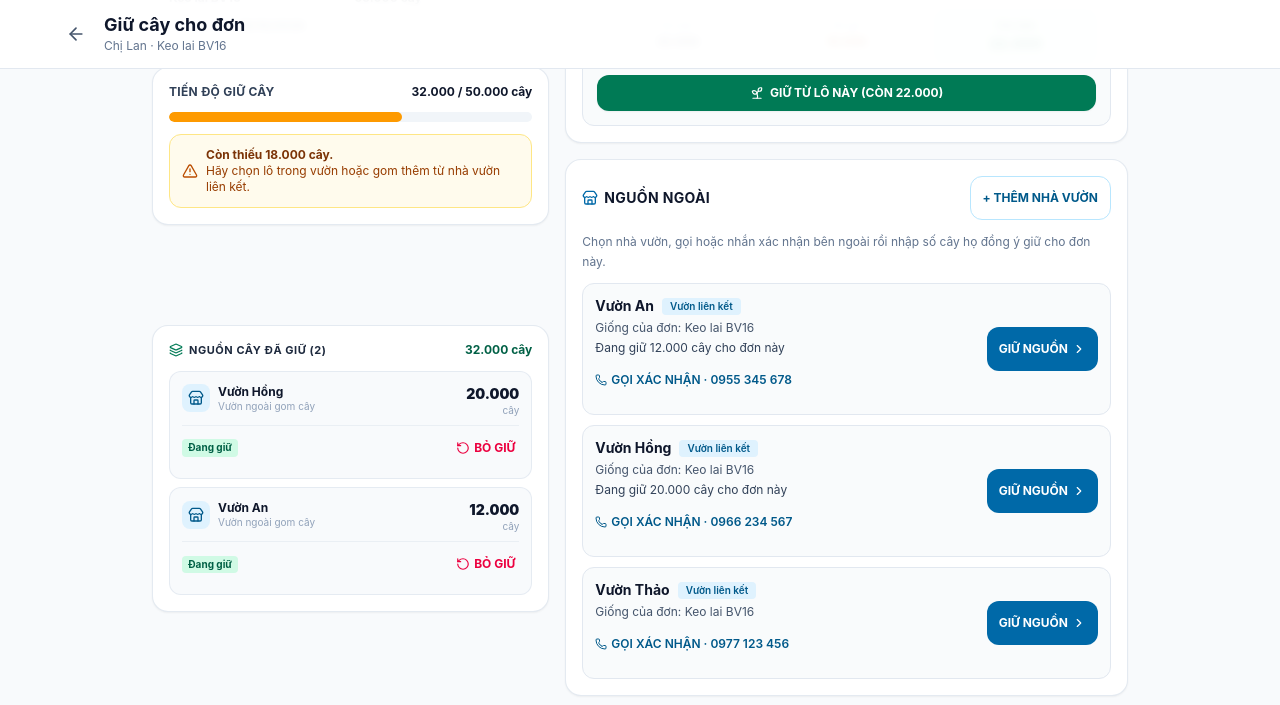
OrderReserveScreen (Phase P3) › allows reserving from external supplier
(page scrolled)
Expected: the text "Vườn Thảo" is shown, [595,580,670,600]
// Click "Giữ nguồn từ Vườn Thảo"
Click the button with aria-label "Giữ nguồn từ Vườn Thảo".
click(1042, 623)  # box [987,601,1098,645]
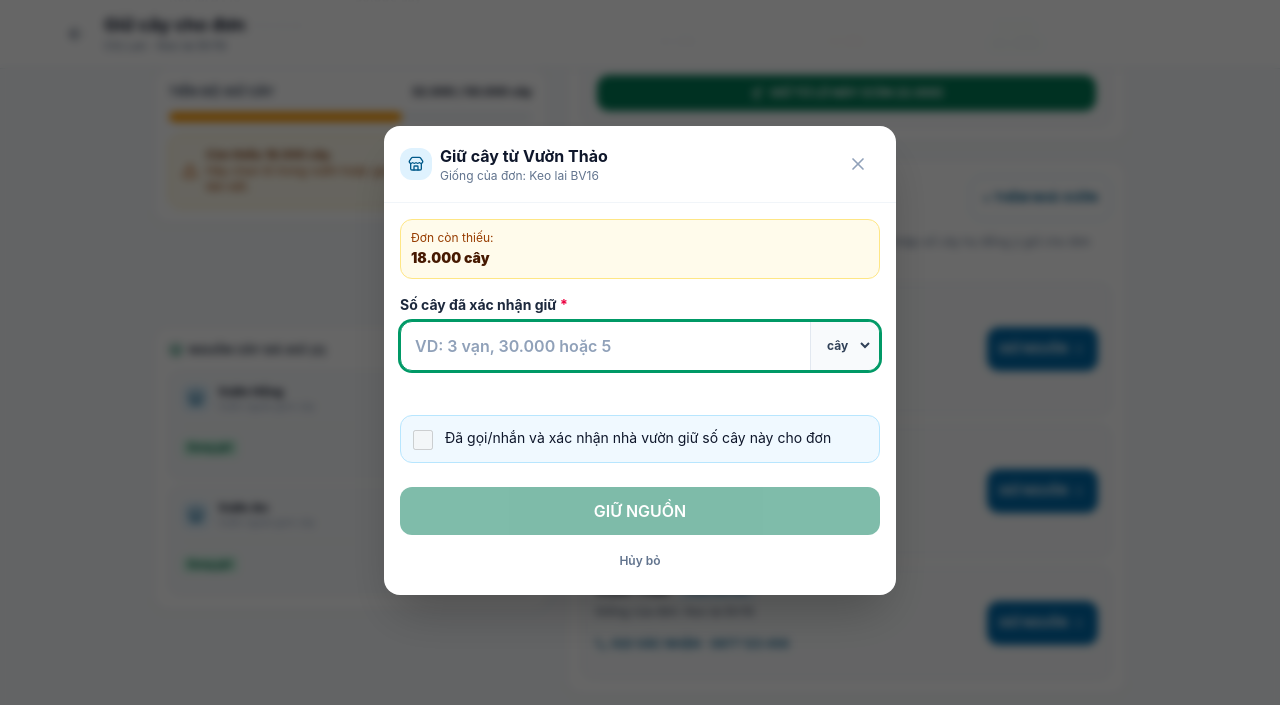
Result: the heading "Giữ cây từ Vườn Thảo" is shown at [440,144,608,168]
Result: the field labelled "Số cây đã xác nhận giữ *" is empty
Type "18000" into the field labelled "Số cây đã xác nhận giữ *".
click(606, 346); type("18000")  # box [401,322,810,370]
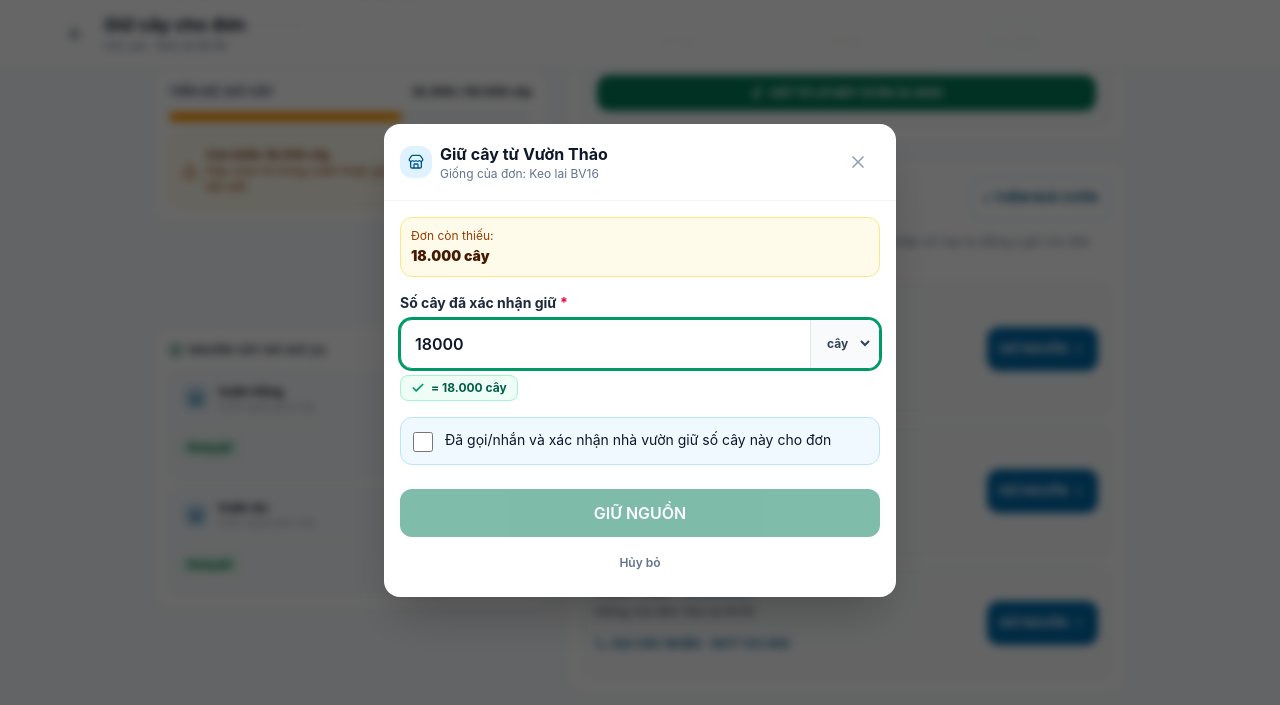
Result: the text "= 18.000 cây" is shown at [431,380,507,396]
Click the checkbox labelled "Đã gọi/nhắn và xác nhận nhà vườn giữ số cây này cho đơn".
click(423, 442)  # box [413,432,433,452]
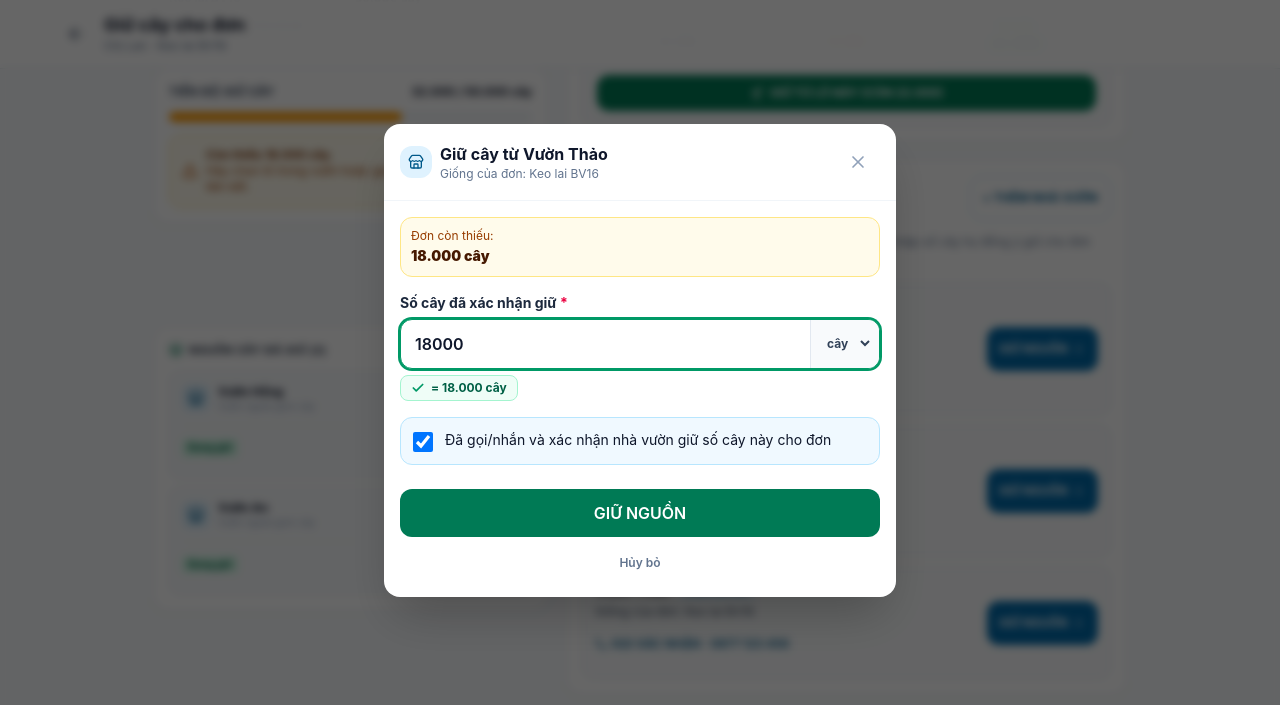
Click the button "GIỮ NGUỒN".
click(640, 512)  # box [400,488,880,536]
(page scrolled)
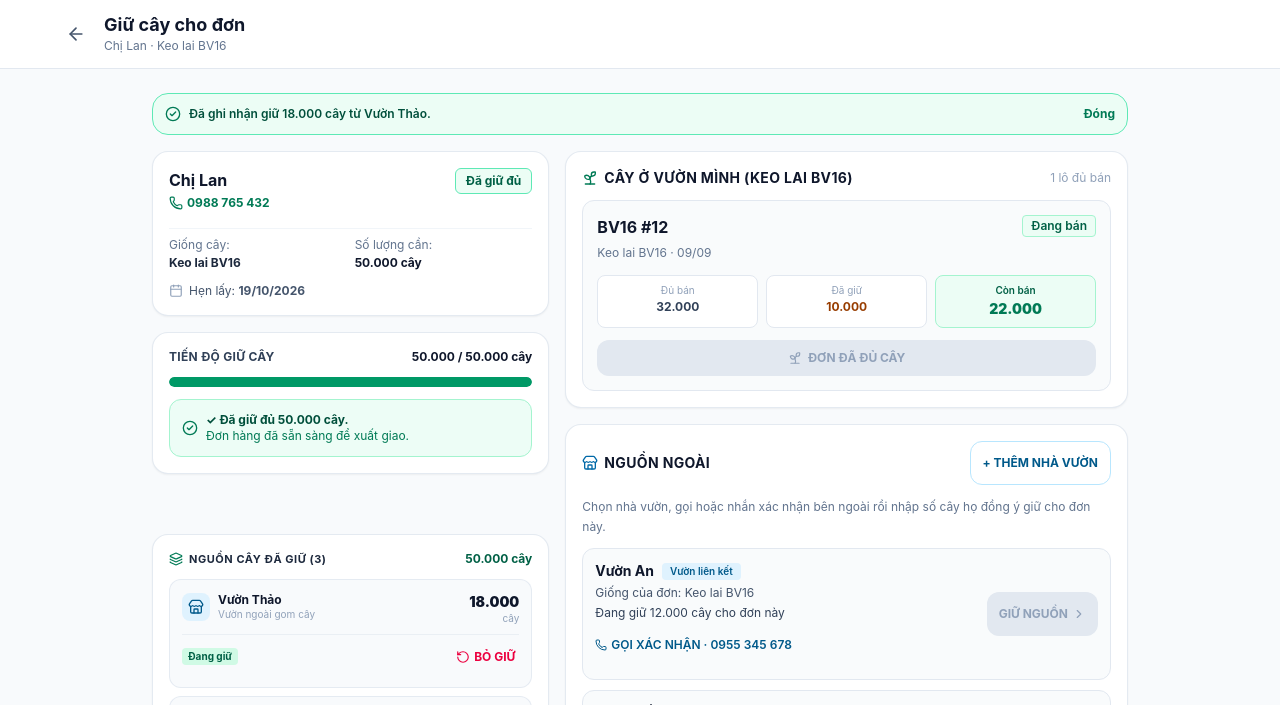
Result: the text "Đã giữ đủ" is shown at [455,168,532,194]
